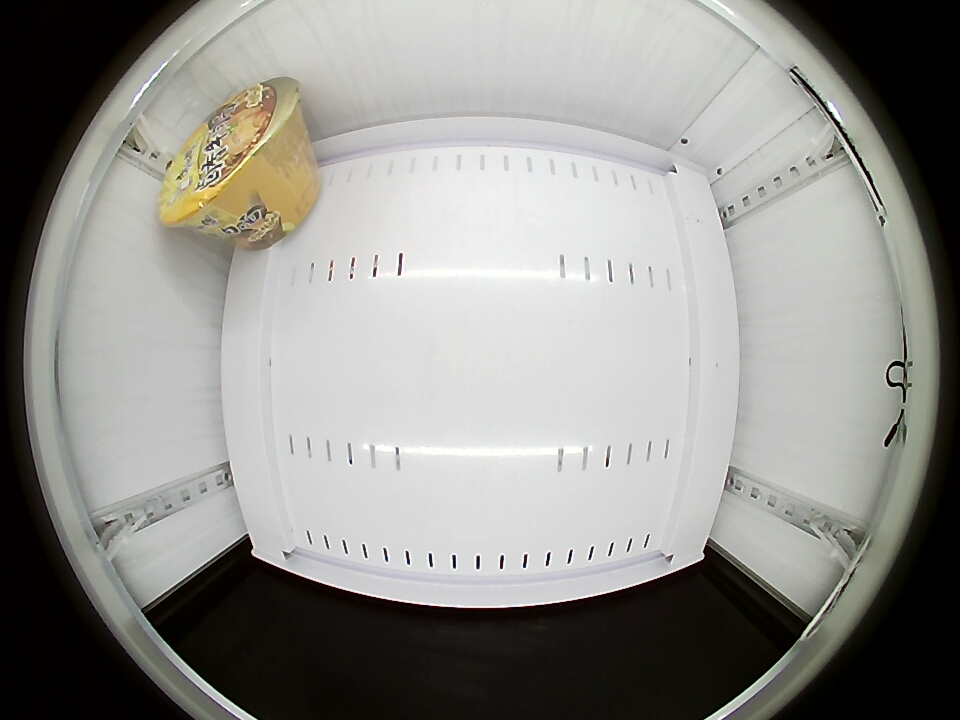luxiangniurou: (159, 78, 300, 231)
